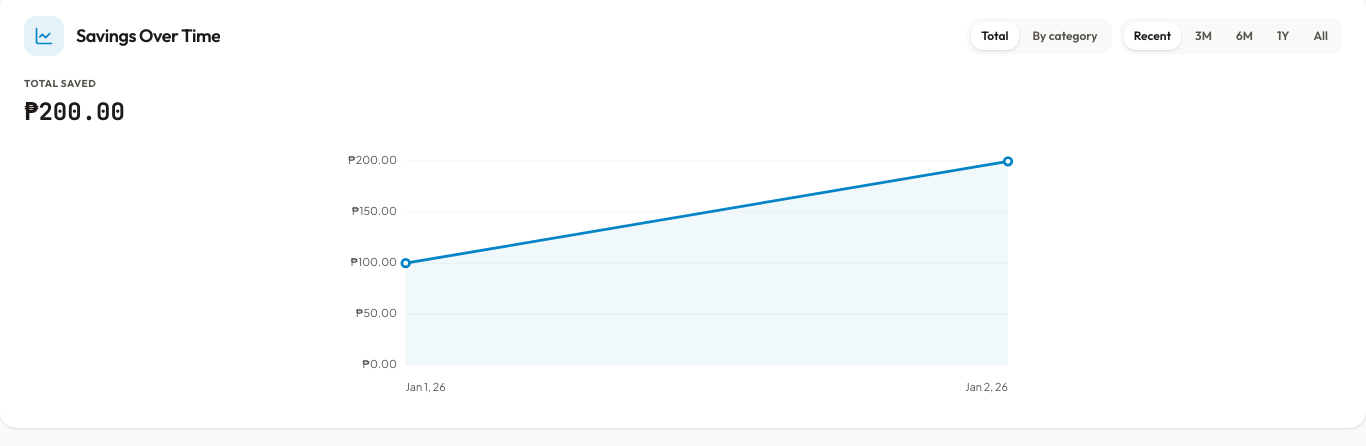
SavingsGraph › shows the empty state in the by-category view when no category has data (Req 6.11, 11.6)
Check: the text "₱200.00" is shown, box [24,96,125,128]
Click the button with test id "savings-view-byCategory" at (1065, 36), box [1022,22,1108,50]
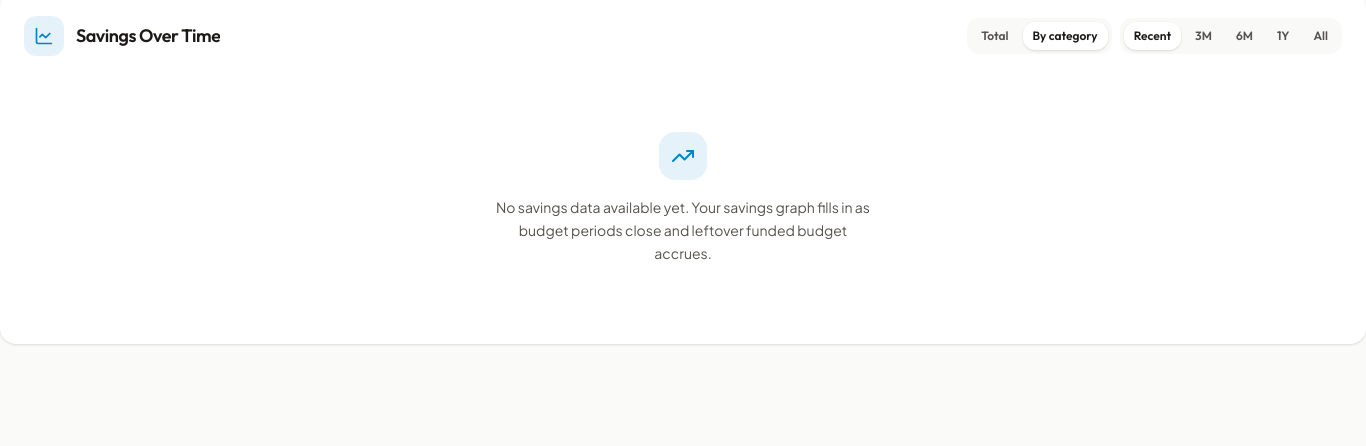
Check: the element with test id "savings-empty" is shown, box [496,132,870,262]
